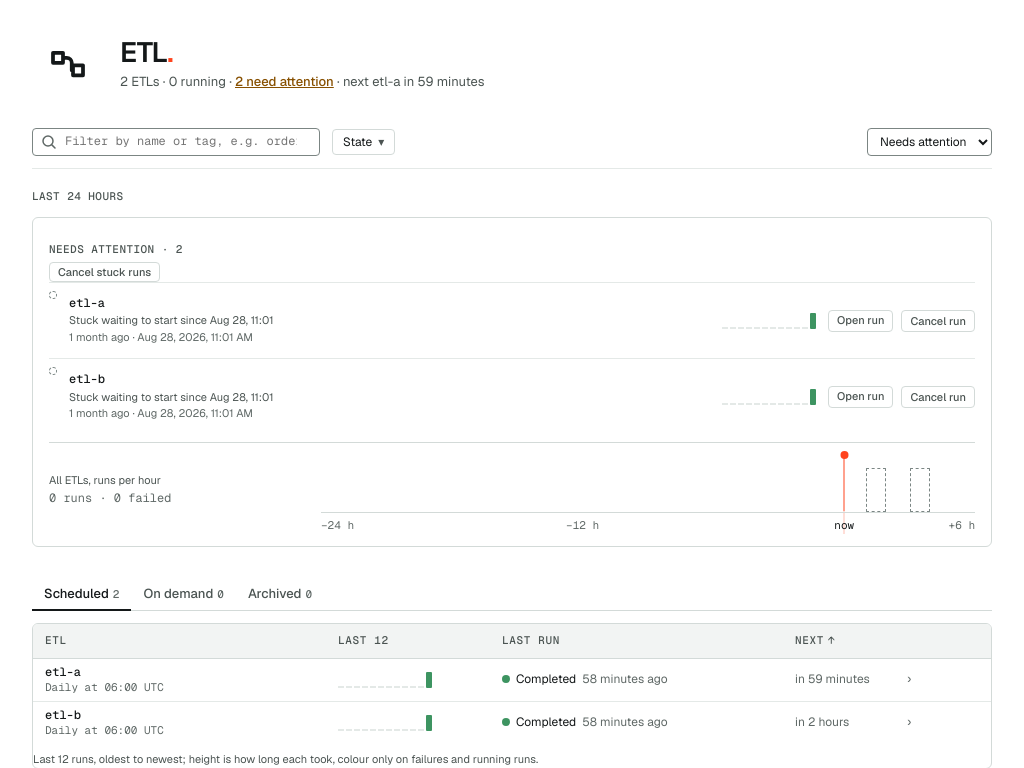
Test case: EtlDashboard runs that never started › counts no ETL running, in the header, the panel and the State filter alike, and both as needing attention
Check: the heading "ETL." is shown, box [120,34,173,70]
Check: the element that starts with "2 ETLs" shows "0 running", box [169,73,226,90]
Step 1. Click the button "State" → (364, 142), box [332,129,395,155]
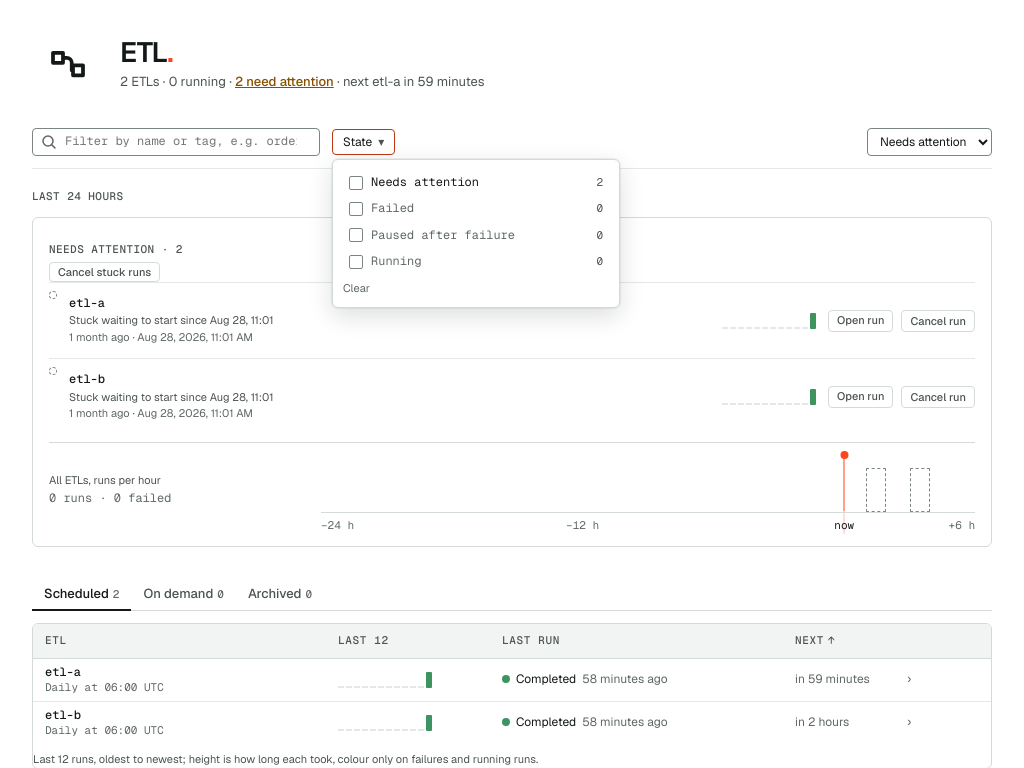
Check: the option "Running 0" is shown, box [343,249,609,275]
